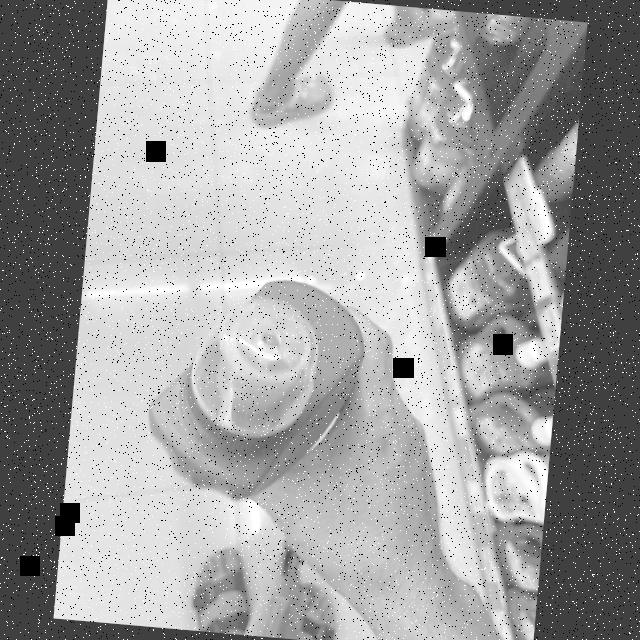chemical_plastic_bottle: (138, 258, 376, 516)
